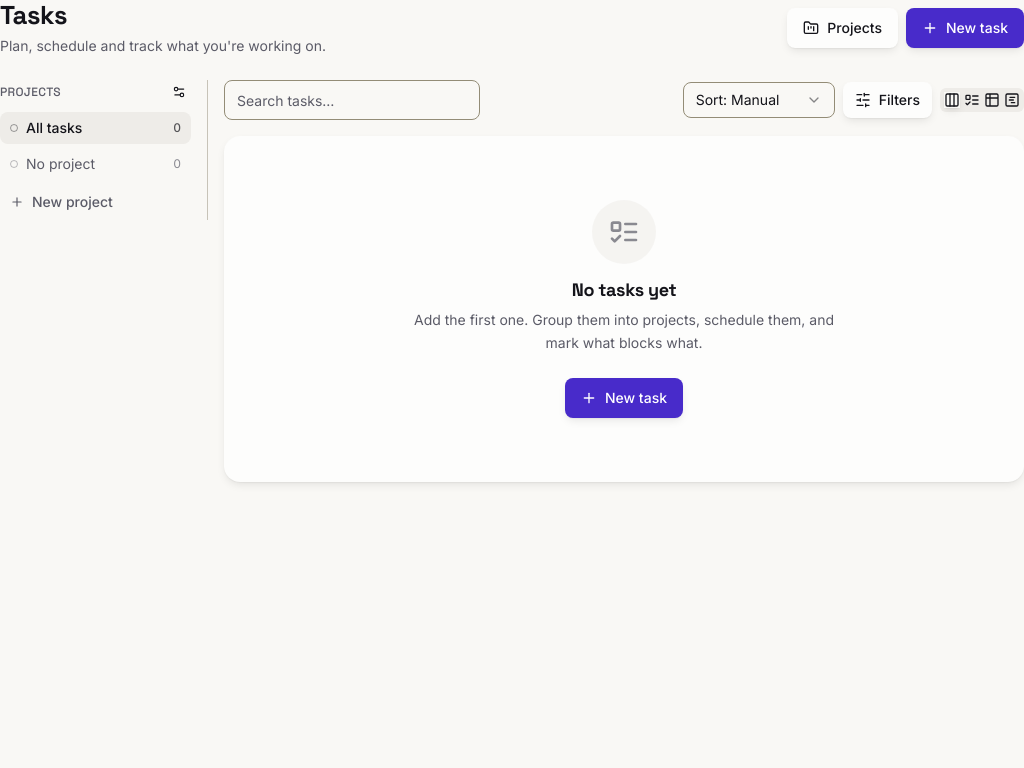
Test: TasksPage › opens a way to create a project
The image size is (1024, 768).
Click the button "Projects" at coordinates (843, 28), box [787,8,898,48]
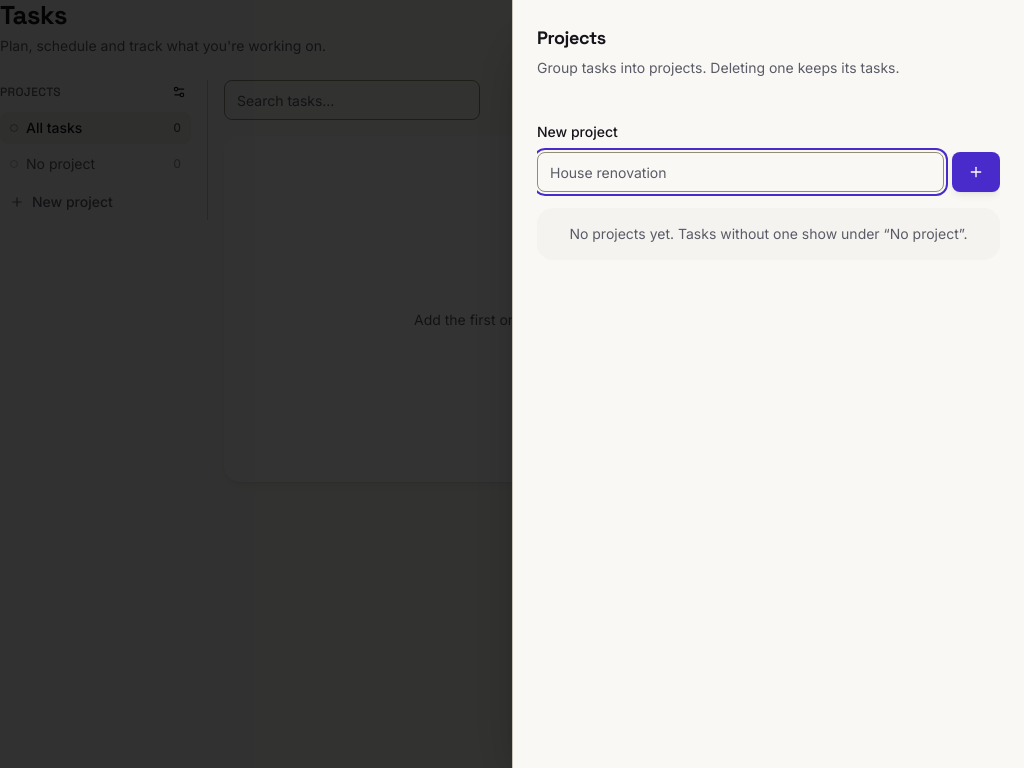
Expected: the field labelled "New project" is shown, [537,152,944,192]
